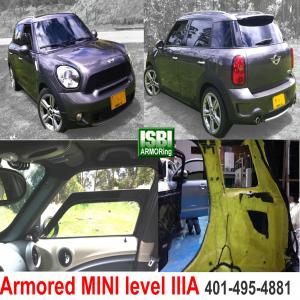Vehicle-registration-plate: (112, 91, 128, 110), (273, 93, 287, 111)
